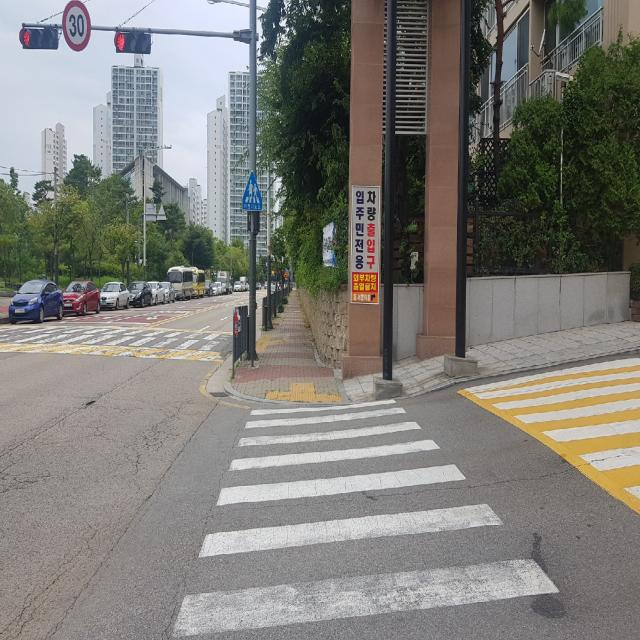횡단보도: (167, 396, 561, 640), (0, 311, 240, 362)
